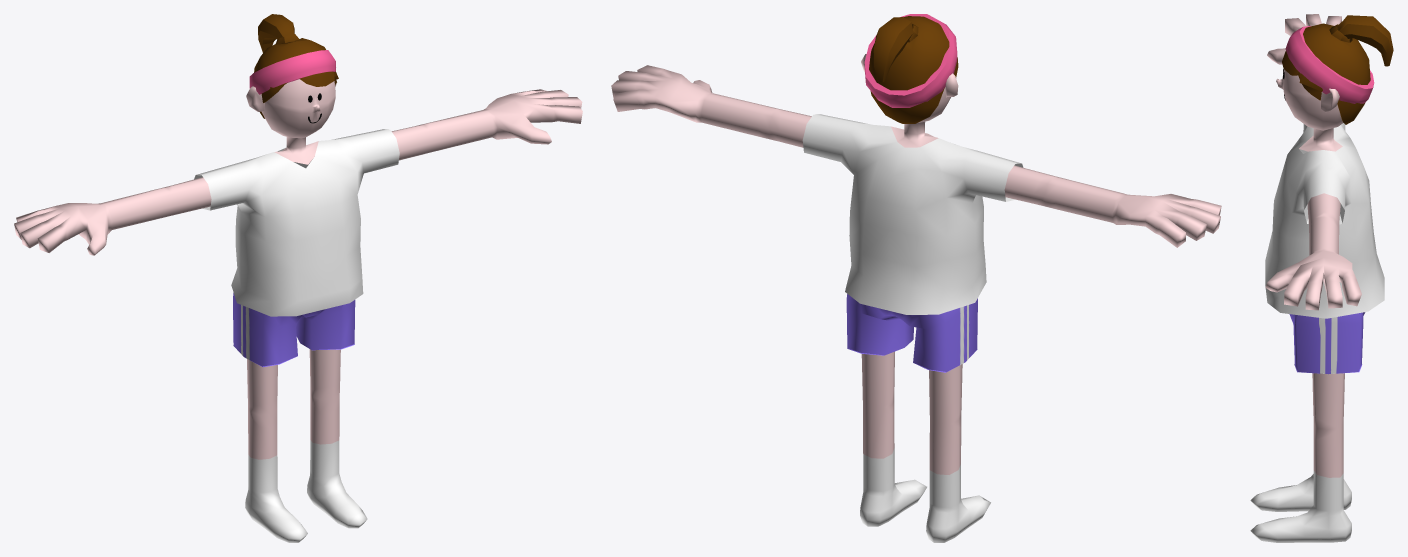
The model's file is Female.fbx.
3 renders of one model, left to right at view 1: azimuth 30°, elevation 25°; view 2: azimuth 150°, elevation 25°; view 3: azimuth 270°, elevation 25°, orthographic. The views are drawn at different scales.
Parts seen in each view (by area): view 1: Female:pCube15; view 2: Female:pCube15; view 3: Female:pCube15.
Part boxes in pixels (x1,y1,x2,y2): Female:pCube15: (14, 14, 582, 542); Female:pCube15: (611, 14, 1221, 542); Female:pCube15: (1250, 14, 1393, 542).
Size of the model in its own units: 7.02 by 5.8 by 1.49.
